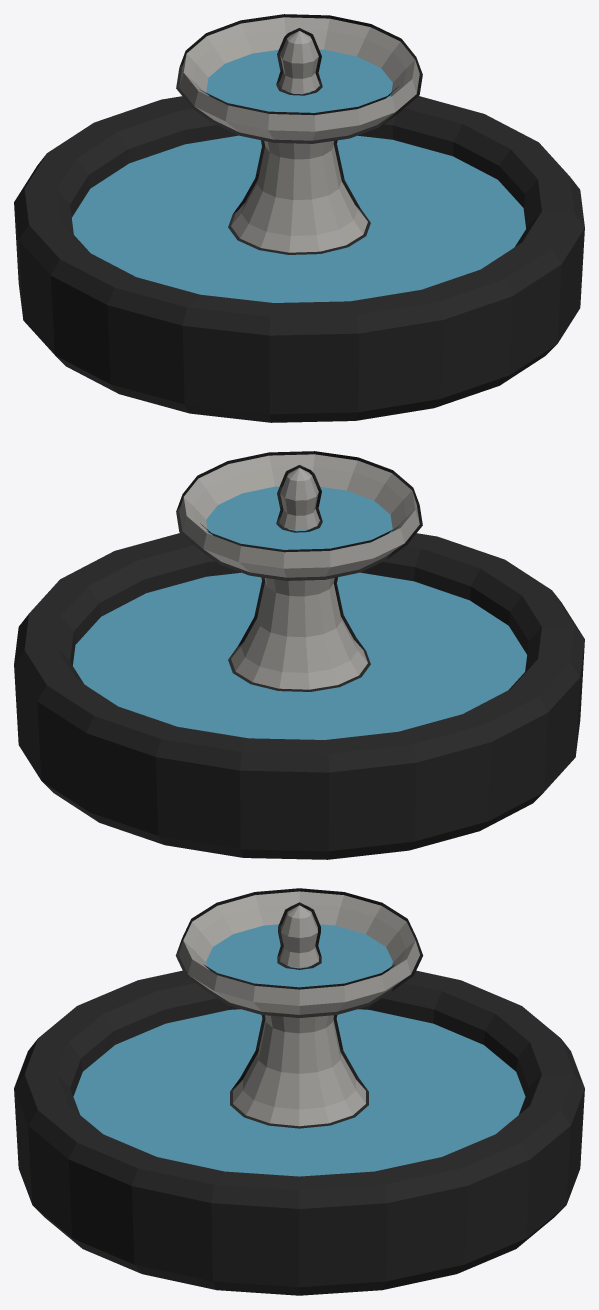
Rendered from fountain.fbx.
3 renders of one model, top to bottom at view 1: azimuth 30°, elevation 25°; view 2: azimuth 150°, elevation 25°; view 3: azimuth 270°, elevation 25°, orthographic.
Visible parts, largest first — view 1: Park_Fountain; view 2: Park_Fountain; view 3: Park_Fountain.
Part boxes in pixels (x1,y1,x2,y2): Park_Fountain: (14,14,584,422); Park_Fountain: (14,451,584,859); Park_Fountain: (14,888,584,1295).
Size of the model in its own units: 251 by 136 by 251.
